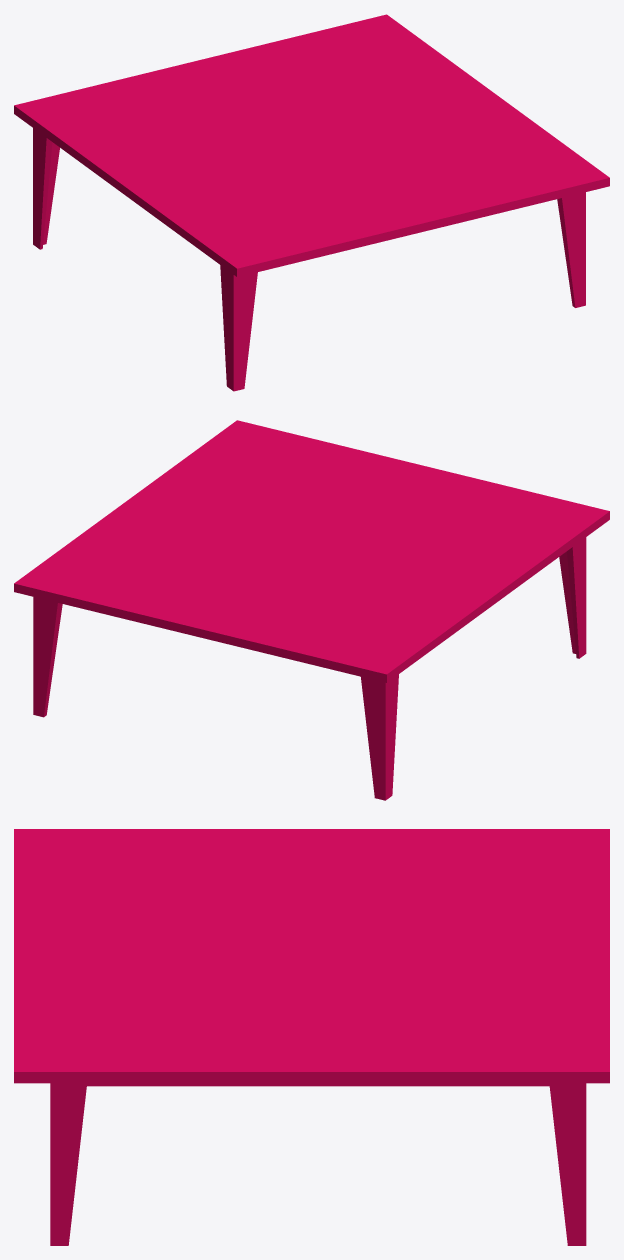
Rendered from Coffee_Table_03_Lod0.fbx.
3 renders of one model, top to bottom at view 1: azimuth 30°, elevation 25°; view 2: azimuth 150°, elevation 25°; view 3: azimuth 270°, elevation 25°, orthographic. The views are drawn at different scales.
Parts seen in each view (by area): view 1: Coffee_Table_03_Lod0; view 2: Coffee_Table_03_Lod0; view 3: Coffee_Table_03_Lod0.
Part boxes in pixels (<box>): Coffee_Table_03_Lod0: <box>14,14,609,391</box>; Coffee_Table_03_Lod0: <box>14,420,609,800</box>; Coffee_Table_03_Lod0: <box>14,829,609,1245</box>.
Size of the model in its own units: 130 by 45.06 by 135.
